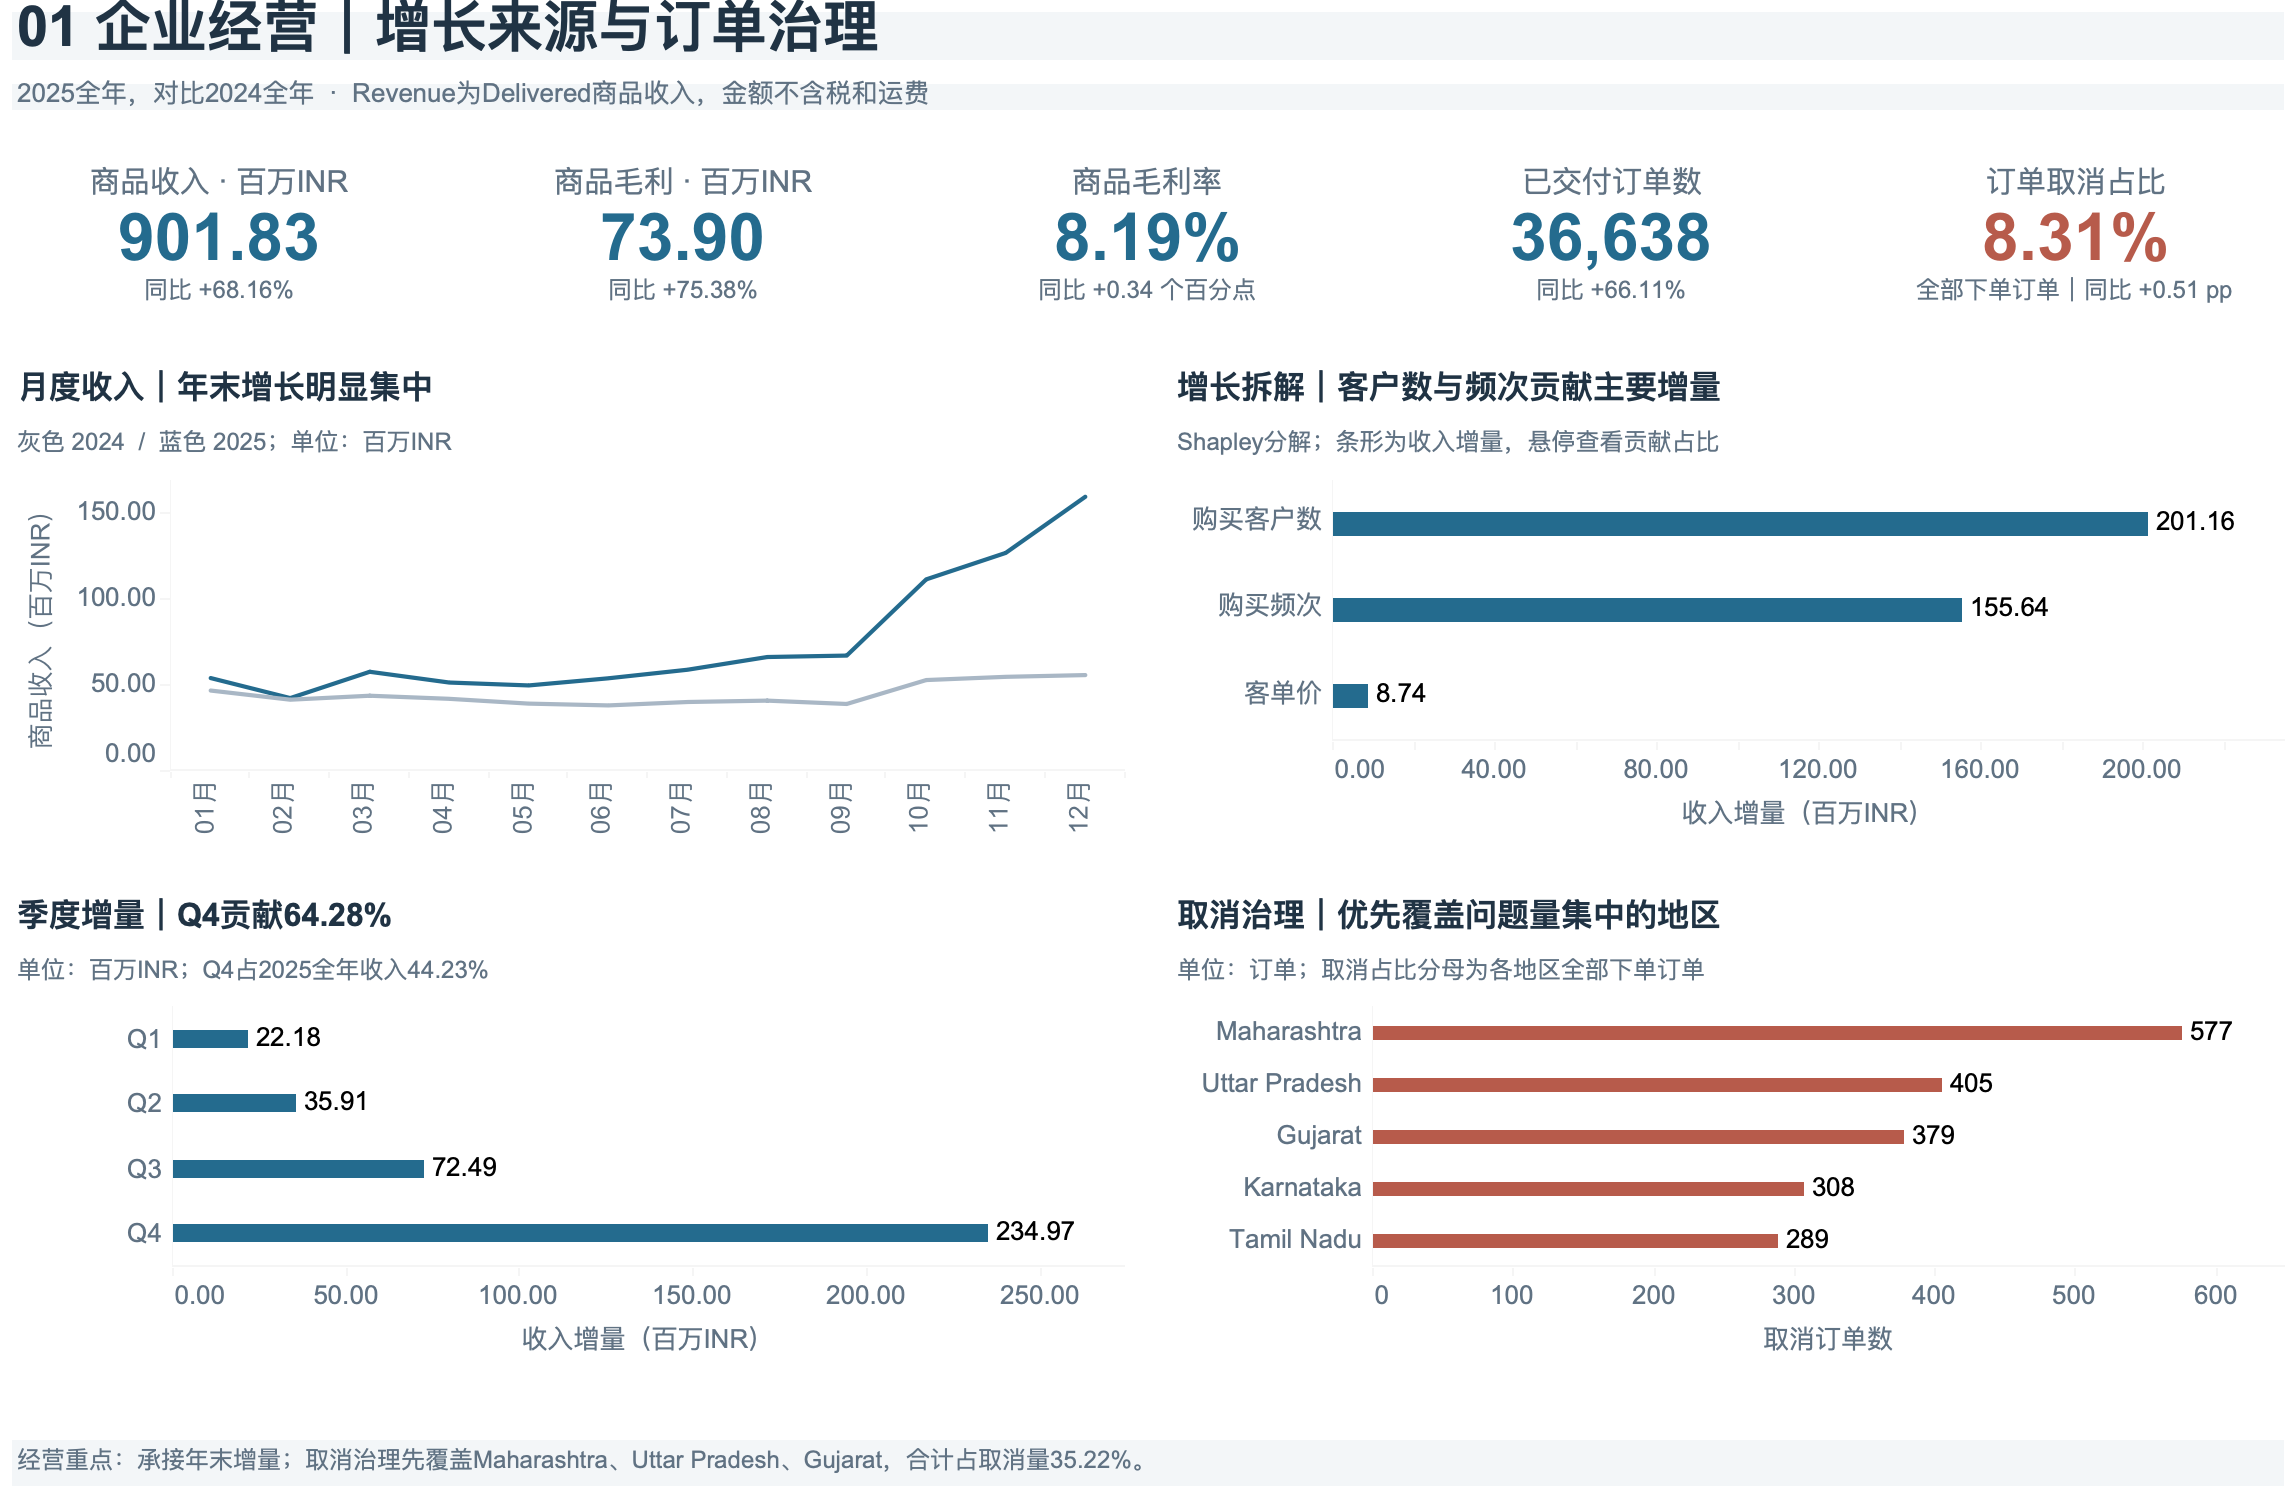

The dashboard page shown, as its layout file describes it:
{"tool":"tableau","page":{"name":"01 企业经营｜增长来源与订单治理","canvas":[1440,960],"ordinal":0},"visuals":[{"type":"text","box":[0,0,1440,45.5]},{"type":"text","box":[0,45.5,1440,32.4]},{"type":"worksheet","title":"经营KPI_revenue_m","mark":"Text","box":[0,88.7,276.1,125.8]},{"type":"worksheet","title":"经营KPI_profit_m","mark":"Text","box":[291,88.7,276.1,125.8]},{"type":"worksheet","title":"经营KPI_margin","mark":"Text","box":[581.9,88.7,276.1,125.8]},{"type":"worksheet","title":"经营KPI_count","mark":"Text","box":[872.9,88.7,276.1,125.8]},{"type":"worksheet","title":"经营KPI_cancel","mark":"Text","box":[1163.9,88.7,276.1,125.8]},{"type":"text","box":[0,232.5,712.6,39.6]},{"type":"text","box":[727.4,232.5,712.6,39.6]},{"type":"text","box":[0,272.1,712.6,27.6]},{"type":"text","box":[727.4,272.1,712.6,27.6]},{"type":"worksheet","title":"月度收入｜年末增长明显集中","mark":"Line","rows":["revenue_m"],"cols":["month"],"box":[0,299.6,712.6,252.9]},{"type":"worksheet","title":"增长拆解｜客户数与频次贡献主要增量","mark":"Bar","rows":["factor"],"cols":["increase_m"],"box":[727.4,299.6,712.6,252.9]},{"type":"text","box":[0,570.5,712.6,39.6]},{"type":"text","box":[727.4,570.5,712.6,39.6]},{"type":"text","box":[0,610,712.6,27.6]},{"type":"text","box":[727.4,610,712.6,27.6]},{"type":"worksheet","title":"季度增量｜Q4贡献64.28%","mark":"Bar","rows":["quarter"],"cols":["increase_m"],"box":[0,637.6,712.6,252.9]},{"type":"worksheet","title":"取消治理｜优先覆盖问题量集中的地区","mark":"Bar","rows":["region"],"cols":["count"],"box":[727.4,637.6,712.6,252.9]},{"type":"text","box":[0,915.6,1440,44.4]}]}

Visuals, with their boxes in screenshot pixels (x1, y1, x2, y2), scaled from the page's 1440x960 canvas onto the 2296x1498 screenshot:
text: (0,0,2295,71)
text: (0,71,2295,122)
"经营KPI_revenue_m" worksheet (Text marks): (0,138,440,335)
"经营KPI_profit_m" worksheet (Text marks): (464,138,904,335)
"经营KPI_margin" worksheet (Text marks): (928,138,1368,335)
"经营KPI_count" worksheet (Text marks): (1392,138,1832,335)
"经营KPI_cancel" worksheet (Text marks): (1856,138,2295,335)
text: (0,363,1136,425)
text: (1160,363,2295,425)
text: (0,425,1136,468)
text: (1160,425,2295,468)
"月度收入｜年末增长明显集中" worksheet (Line marks): (0,468,1136,862)
"增长拆解｜客户数与频次贡献主要增量" worksheet (Bar marks): (1160,468,2295,862)
text: (0,890,1136,952)
text: (1160,890,2295,952)
text: (0,952,1136,995)
text: (1160,952,2295,995)
"季度增量｜Q4贡献64.28%" worksheet (Bar marks): (0,995,1136,1390)
"取消治理｜优先覆盖问题量集中的地区" worksheet (Bar marks): (1160,995,2295,1390)
text: (0,1429,2295,1497)
